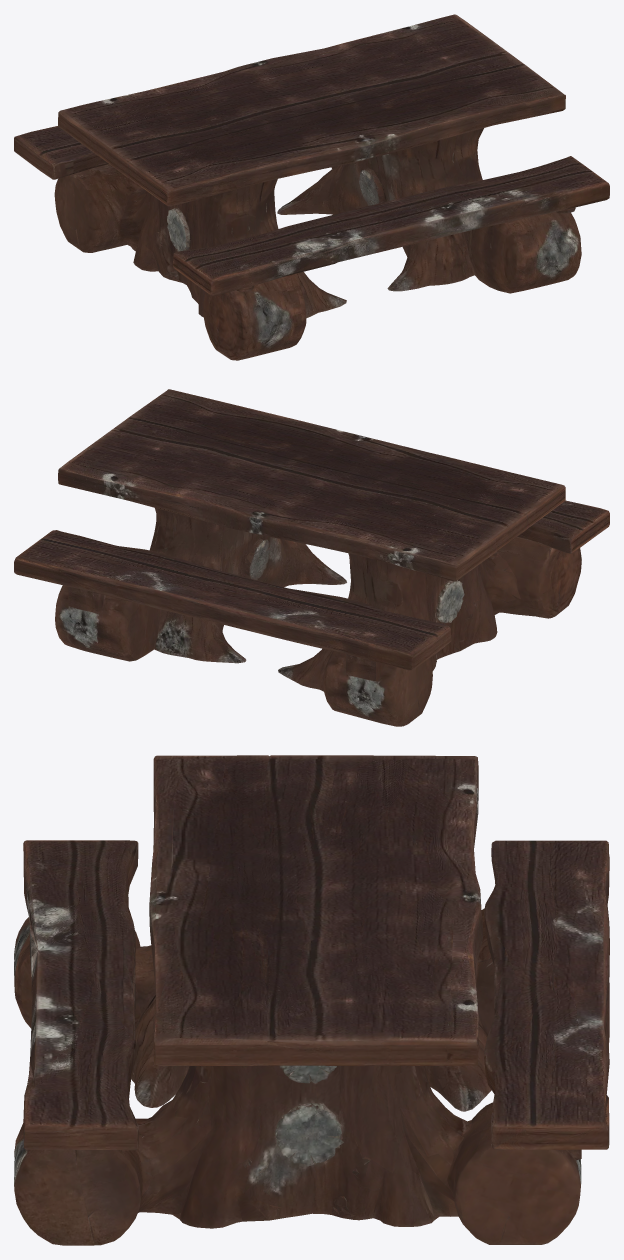
The model's file is log_picnic_table.glb.
The picture shows the model from 3 angles, top to bottom: view 1: azimuth 30°, elevation 25°; view 2: azimuth 150°, elevation 25°; view 3: azimuth 270°, elevation 25°; orthographic projection. The views are drawn at different scales.
Size of the model in its own units: 1.9 by 0.6974 by 1.66.
Materials: 1 (1 with a texture image).
